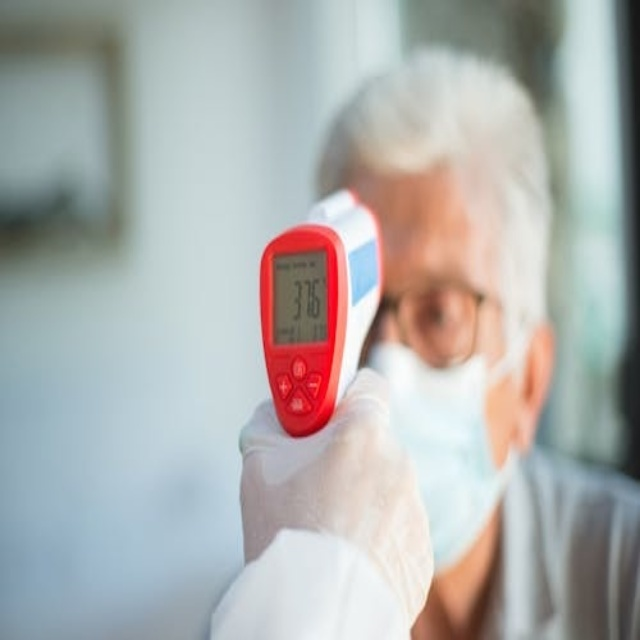Gafas: (368, 279, 514, 369)
Guantes: (236, 364, 435, 634)
Mascara: (364, 326, 521, 574)
